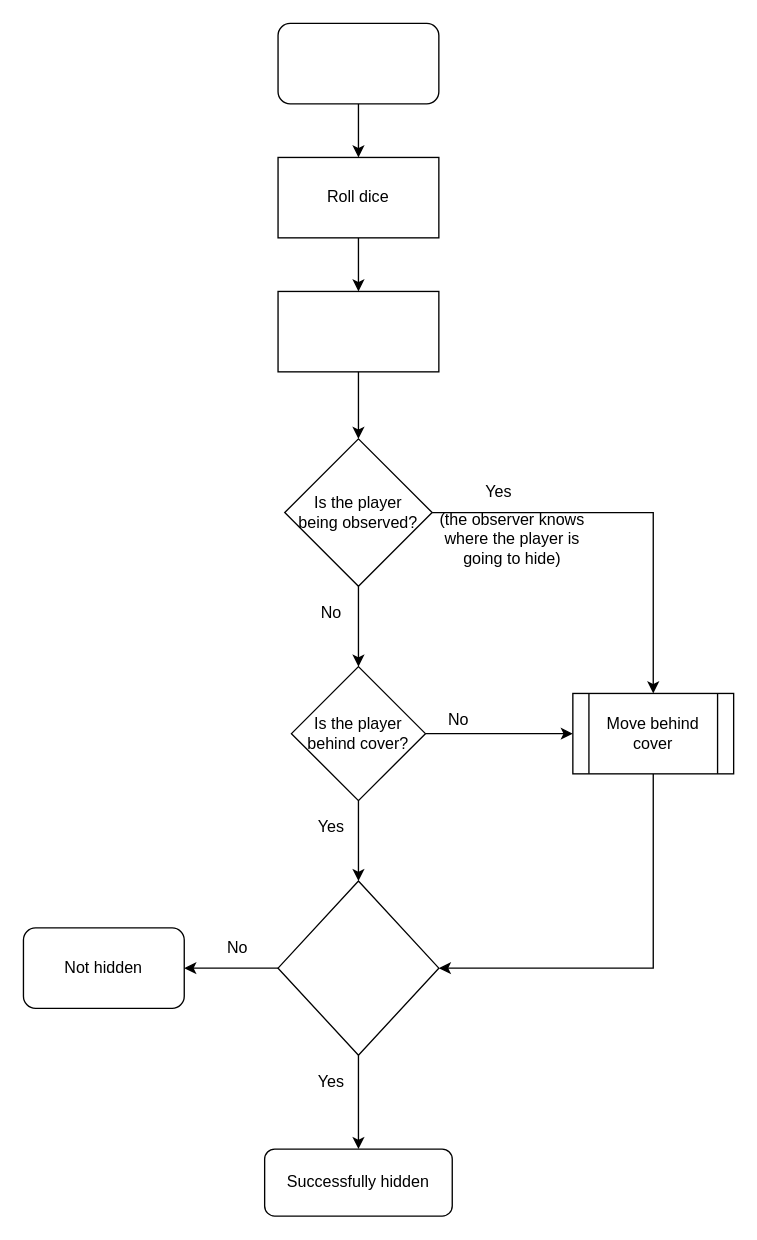
Some shapes in this 757 by 1240 pixel diagram are drawn without their labels. Here are the shapes that lost their labels. From the top down, the centre of each, then its label:
At pixel 358 63: "Start".
At pixel 358 331: "Add adjustments".
At pixel 358 967: "Is roll higher than NPC's perception?".
